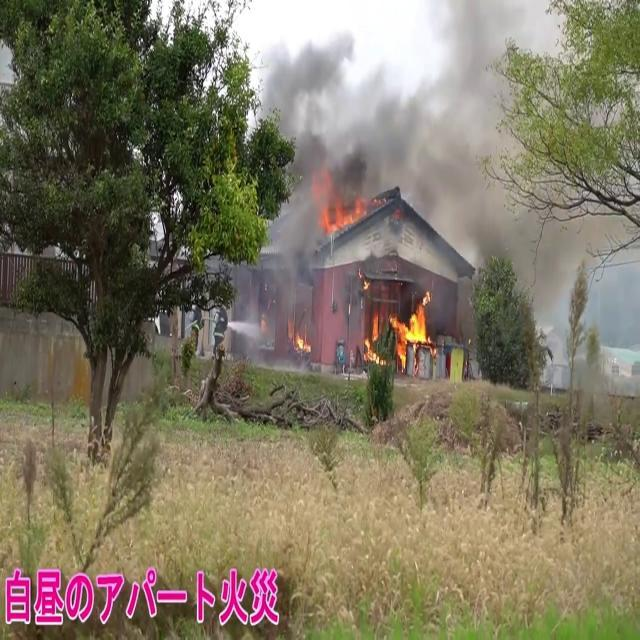Fire: (366, 288, 436, 361), (316, 188, 370, 242)
Smoke: (249, 1, 542, 344)
